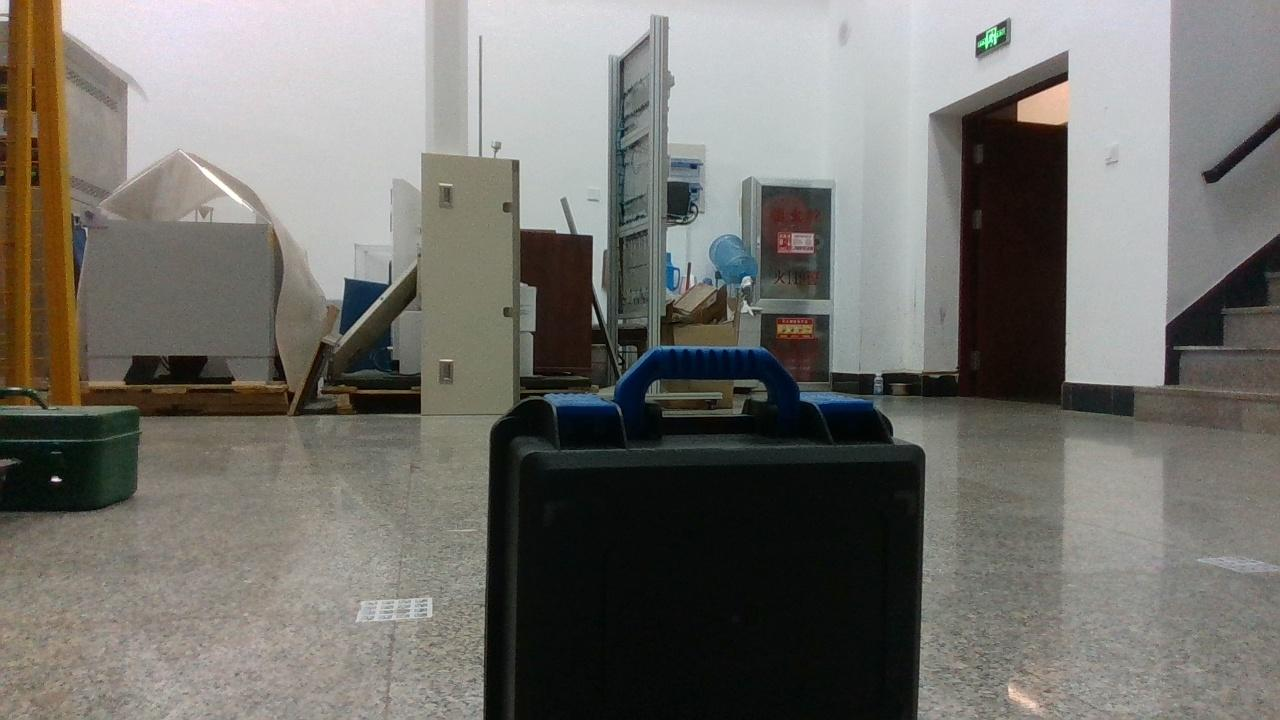toolkit: (485, 345, 925, 718)
